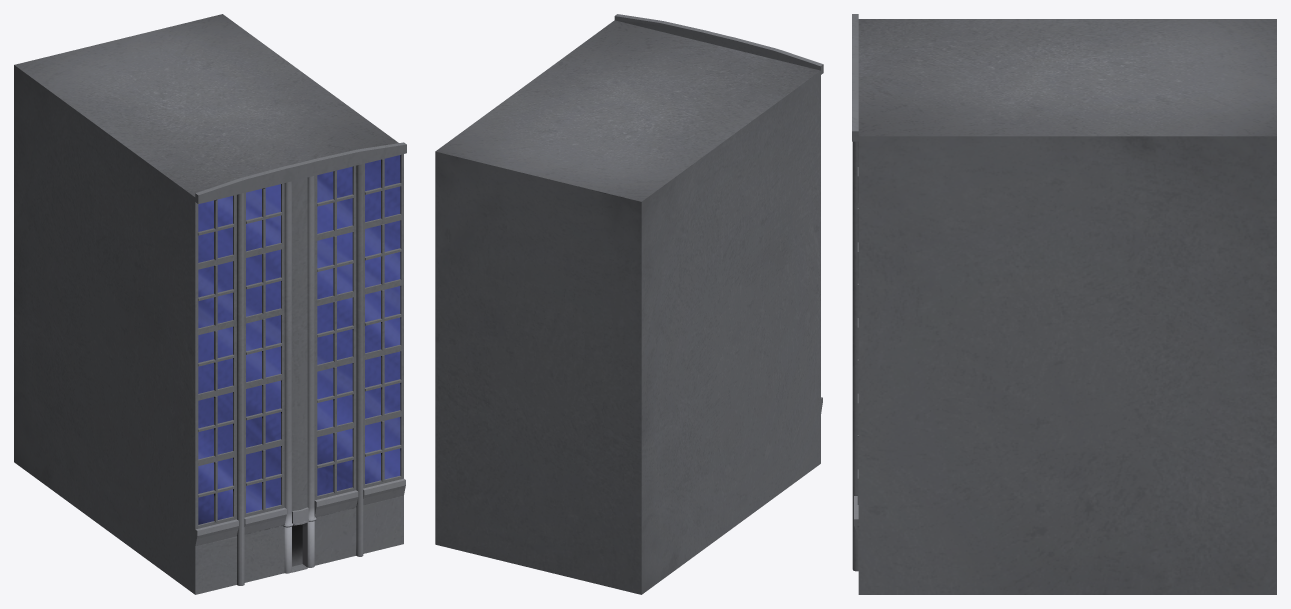
File: Building06.fbx
3 renders of one model, left to right at view 1: azimuth 30°, elevation 25°; view 2: azimuth 150°, elevation 25°; view 3: azimuth 270°, elevation 25°, orthographic. The views are drawn at different scales.
Parts seen in each view (by area): view 1: Building06; view 2: Building06; view 3: Building06.
Part boxes in pixels (x1,y1,x2,y2): Building06: (14, 14, 406, 594); Building06: (435, 14, 823, 594); Building06: (852, 14, 1276, 594).
Size of the model in its own units: 1000 by 1869 by 1529.
